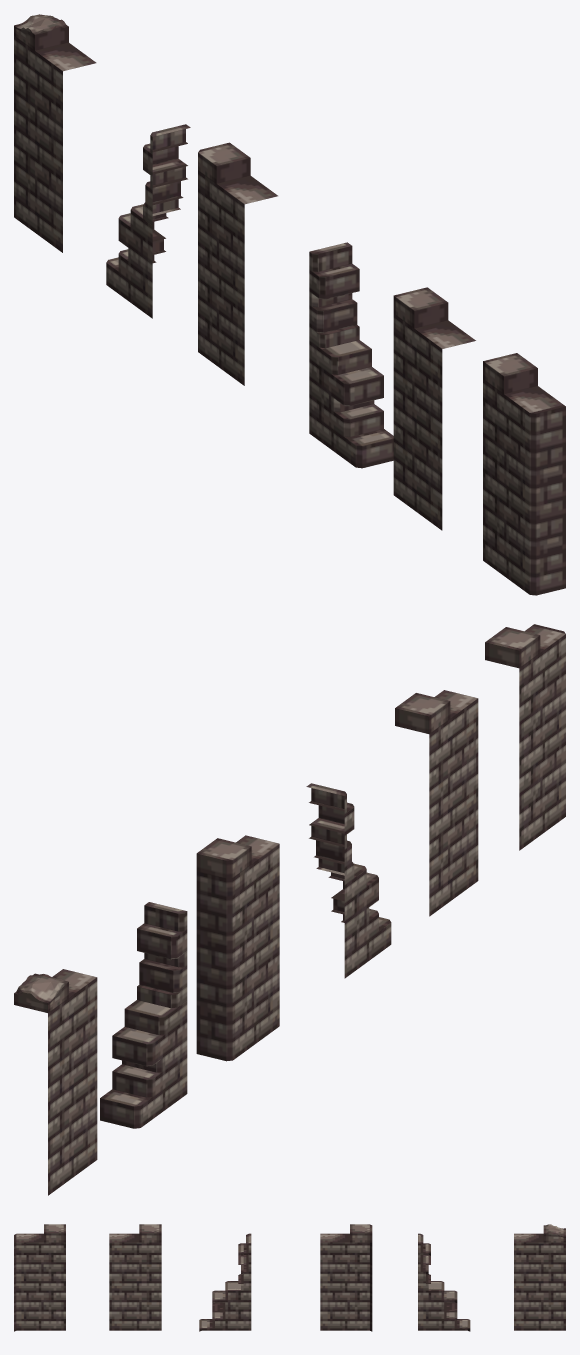
The model's file is EnvMdrMD_City_A_Fence_C_Start_A.FBX.
The picture shows the model from 3 angles, top to bottom: view 1: azimuth 30°, elevation 25°; view 2: azimuth 150°, elevation 25°; view 3: azimuth 270°, elevation 25°; orthographic projection. The views are drawn at different scales.
Parts seen in each view (by area): view 1: EnvMdrMD_City_A_Fence_C_End_A, EnvMdrMD_City_A_Fence_C_End_B, EnvMdrMD_City_A_Fence_C_Loop_A, EnvMdrMD_City_A_Fence_C_Loop_B, EnvMdrMD_City_A_Fence_C_Start_A, EnvMdrMD_City_A_Fence_C_Start_B; view 2: EnvMdrMD_City_A_Fence_C_Start_A, EnvMdrMD_City_A_Fence_C_Start_B, EnvMdrMD_City_A_Fence_C_Loop_A, EnvMdrMD_City_A_Fence_C_Loop_B, EnvMdrMD_City_A_Fence_C_End_A, EnvMdrMD_City_A_Fence_C_End_B; view 3: EnvMdrMD_City_A_Fence_C_Loop_A, EnvMdrMD_City_A_Fence_C_Start_A, EnvMdrMD_City_A_Fence_C_End_A, EnvMdrMD_City_A_Fence_C_Loop_B, EnvMdrMD_City_A_Fence_C_End_B, EnvMdrMD_City_A_Fence_C_Start_B.
Part boxes in pixels (x1,y1,x2,y2): EnvMdrMD_City_A_Fence_C_End_A: [483, 353, 565, 595]; EnvMdrMD_City_A_Fence_C_End_B: [309, 242, 393, 468]; EnvMdrMD_City_A_Fence_C_Loop_A: [393, 287, 475, 530]; EnvMdrMD_City_A_Fence_C_Loop_B: [14, 14, 96, 252]; EnvMdrMD_City_A_Fence_C_Start_A: [198, 142, 277, 385]; EnvMdrMD_City_A_Fence_C_Start_B: [106, 124, 190, 318]; EnvMdrMD_City_A_Fence_C_Start_A: [196, 835, 279, 1061]; EnvMdrMD_City_A_Fence_C_Start_B: [100, 902, 187, 1128]; EnvMdrMD_City_A_Fence_C_Loop_A: [395, 690, 478, 916]; EnvMdrMD_City_A_Fence_C_Loop_B: [14, 969, 97, 1195]; EnvMdrMD_City_A_Fence_C_End_A: [485, 624, 565, 850]; EnvMdrMD_City_A_Fence_C_End_B: [306, 783, 391, 978]; EnvMdrMD_City_A_Fence_C_Loop_A: [109, 1224, 161, 1330]; EnvMdrMD_City_A_Fence_C_Start_A: [320, 1224, 372, 1331]; EnvMdrMD_City_A_Fence_C_End_A: [14, 1224, 65, 1331]; EnvMdrMD_City_A_Fence_C_Loop_B: [514, 1224, 565, 1330]; EnvMdrMD_City_A_Fence_C_End_B: [199, 1233, 251, 1331]; EnvMdrMD_City_A_Fence_C_Start_B: [418, 1233, 470, 1331].
Size of the model in its own units: 45 by 225 by 1059.
1 material, 1 textured.
